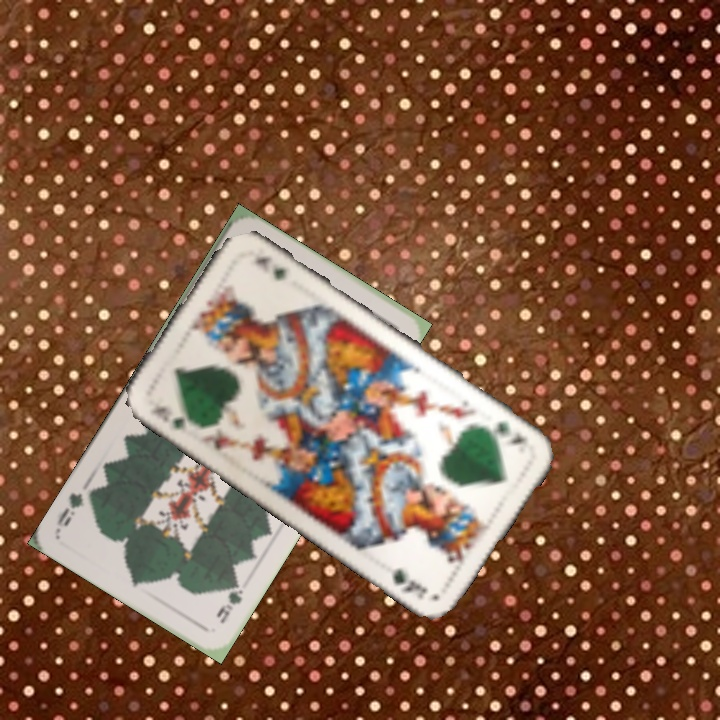G9: (212, 574, 246, 626)
GK: (152, 401, 198, 432), (492, 417, 527, 448)
